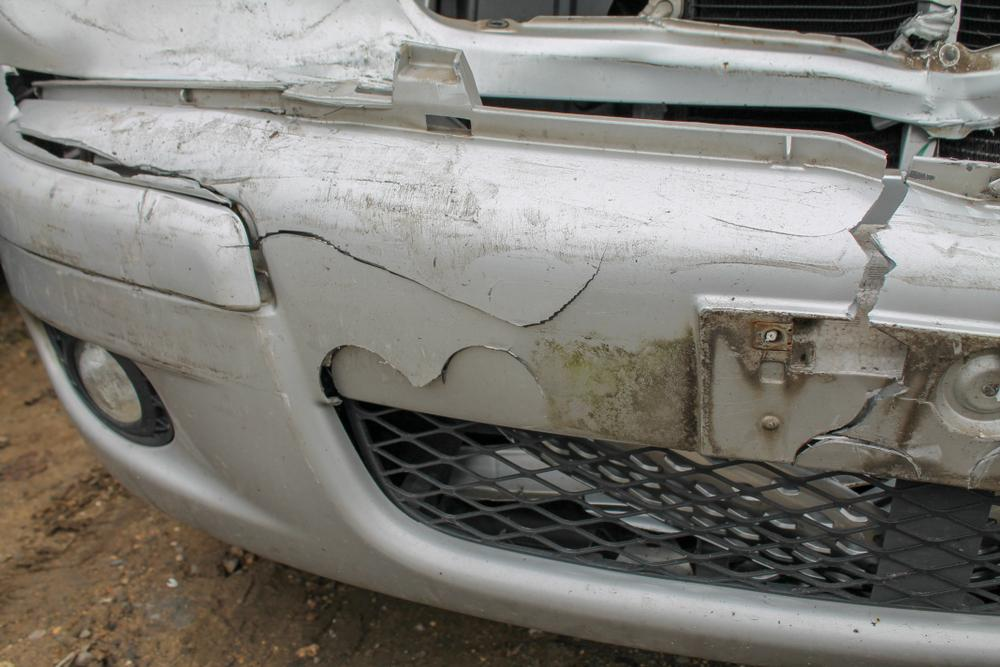crack: (257, 230, 603, 329), (791, 378, 944, 479), (17, 132, 233, 202), (316, 344, 545, 400), (847, 179, 911, 324)
scratch: (112, 106, 845, 278), (9, 172, 227, 375), (903, 205, 1000, 291)
